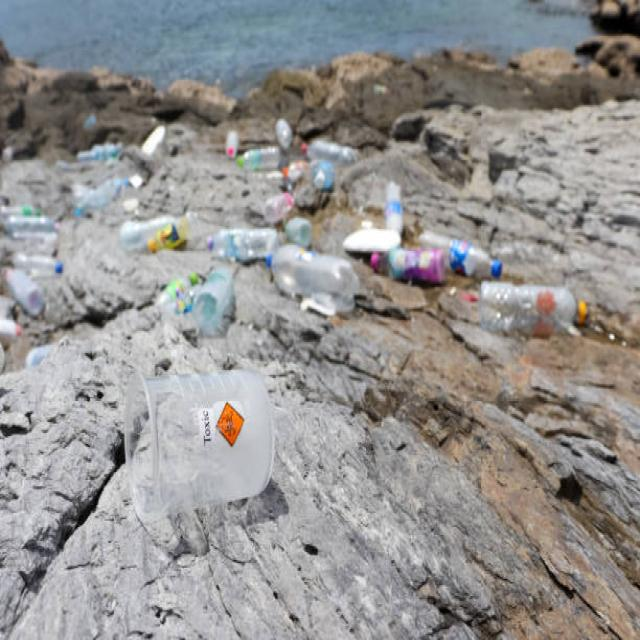plastic: (218, 125, 604, 342), (118, 352, 294, 514)
